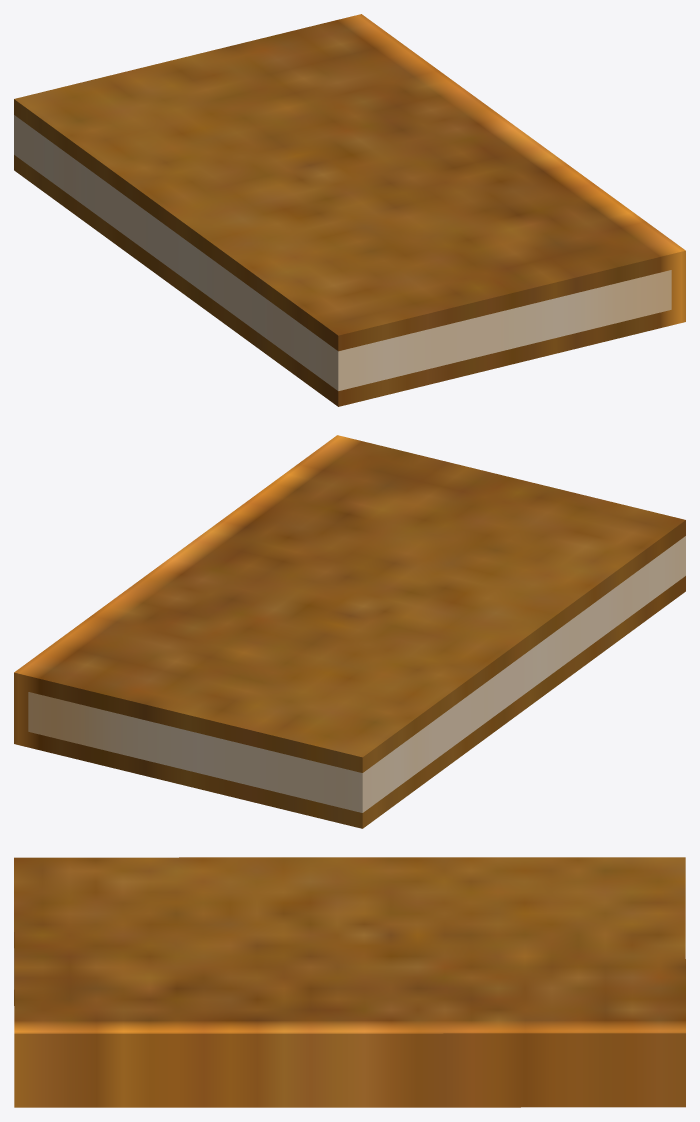
File: BookYellow.fbx
The picture shows the model from 3 angles, top to bottom: view 1: azimuth 30°, elevation 25°; view 2: azimuth 150°, elevation 25°; view 3: azimuth 270°, elevation 25°; orthographic projection. The views are drawn at different scales.
Parts seen in each view (by area): view 1: Cube.040; view 2: Cube.040; view 3: Cube.040.
Part boxes in pixels (left/top/right/bottom): Cube.040: left=14, top=14, right=685, bottom=406; Cube.040: left=14, top=435, right=685, bottom=828; Cube.040: left=14, top=857, right=685, bottom=1107.
Size of the model in its own units: 49.84 by 9.75 by 80.17.
